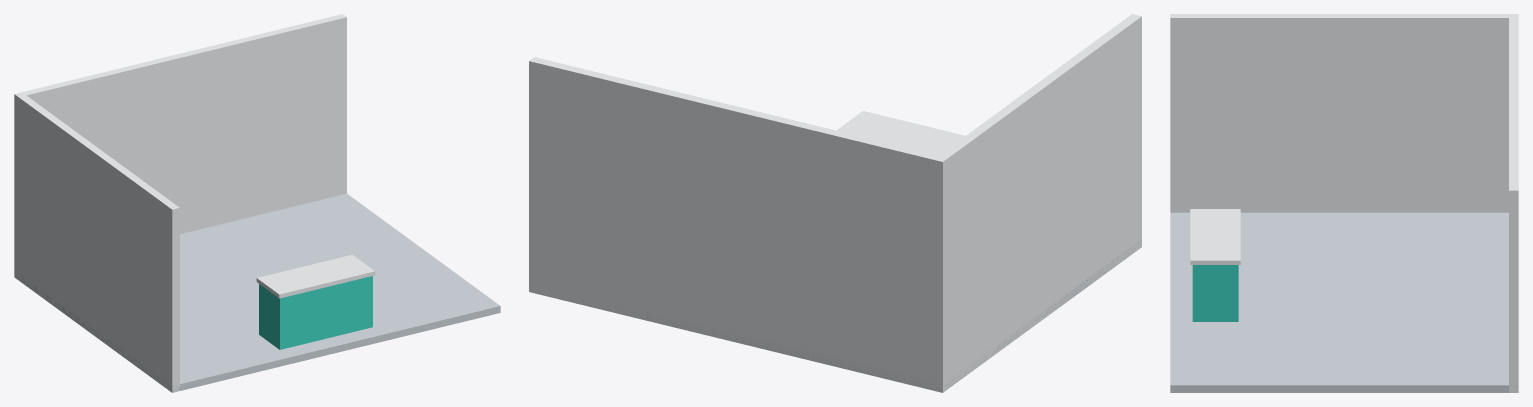
The picture shows the model from 3 angles, left to right: view 1: azimuth 30°, elevation 25°; view 2: azimuth 150°, elevation 25°; view 3: azimuth 270°, elevation 25°; orthographic projection. The views are drawn at different scales.
Parts seen in each view (by area): view 1: Exhibition Booth Concept; view 2: Exhibition Booth Concept; view 3: Exhibition Booth Concept.
Part boxes in pixels (bbox=[...]): Exhibition Booth Concept: bbox=[14, 14, 500, 392]; Exhibition Booth Concept: bbox=[529, 14, 1141, 392]; Exhibition Booth Concept: bbox=[1170, 14, 1518, 392].
Bounding box in the file's own units: 6 × 3.2 × 5.
